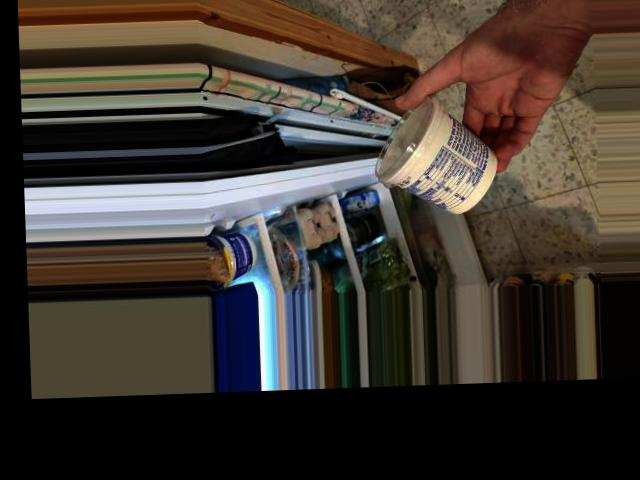cotage: (365, 94, 482, 213)
